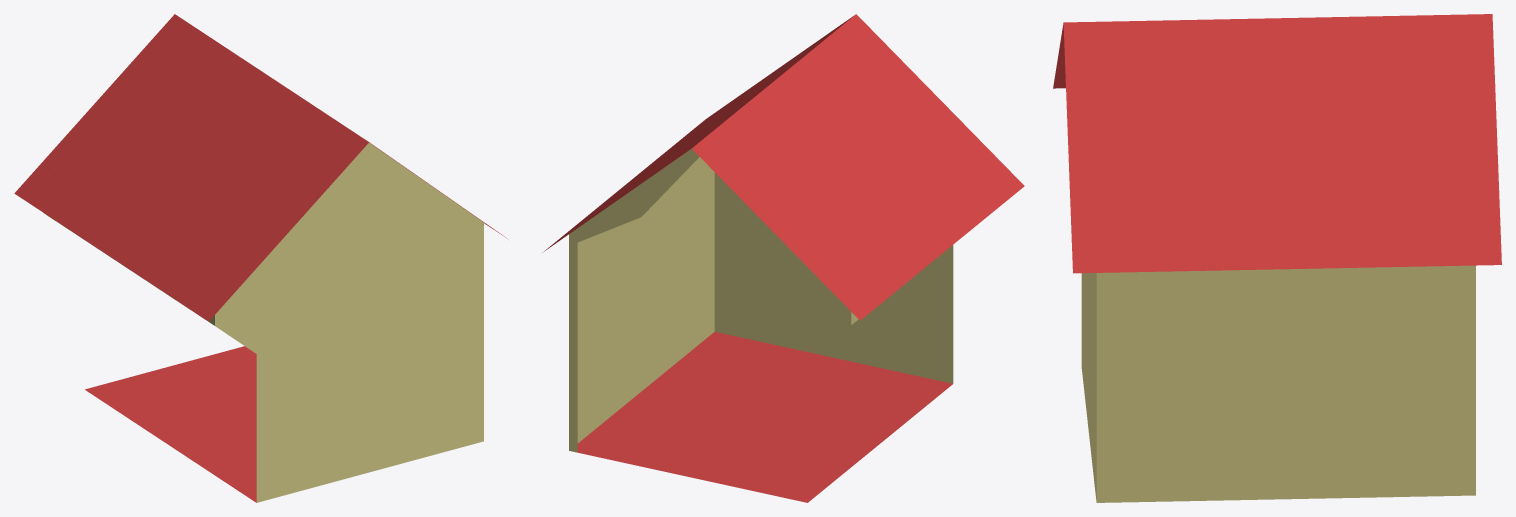
3 renders of one model, left to right at view 1: azimuth 30°, elevation 25°; view 2: azimuth 150°, elevation 25°; view 3: azimuth 270°, elevation 25°, orthographic. The views are drawn at different scales.
Bounding box in the file's own units: 13.63 × 13.61 × 13.57.
